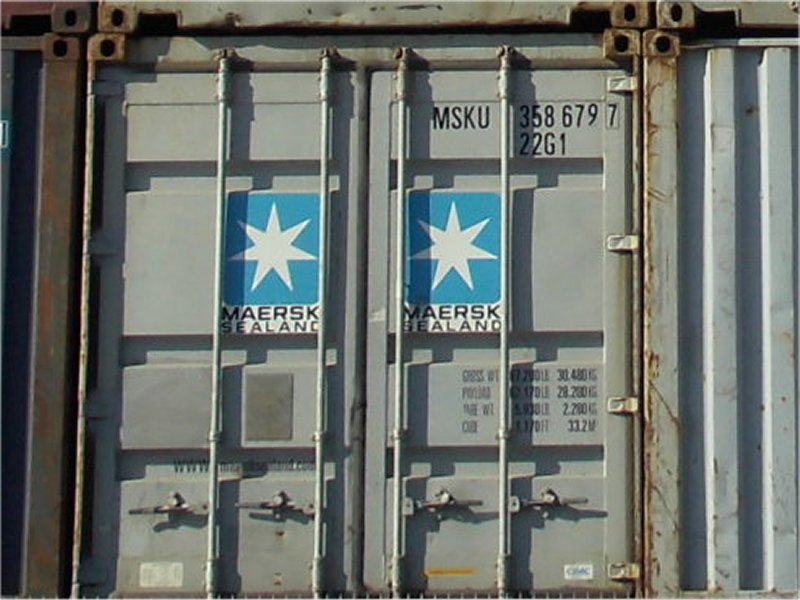container_door: (89, 35, 648, 600)
